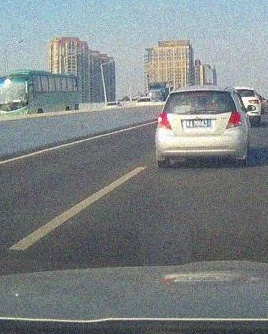L_light: (157, 113, 171, 129)
R_light: (226, 112, 243, 129)
T_light: (191, 91, 206, 94)
day-left: (156, 87, 245, 166)
